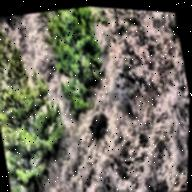boar: (84, 106, 110, 146)
